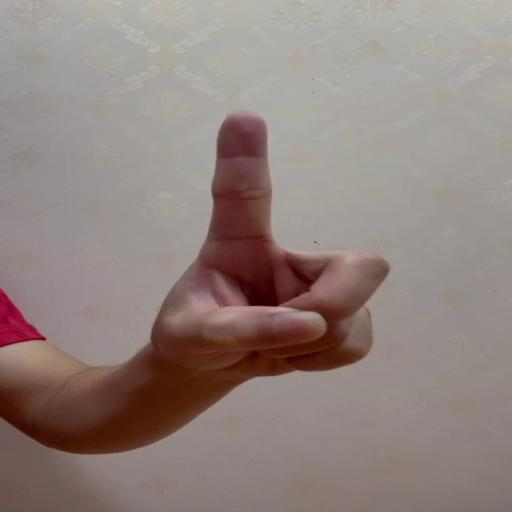point: (188, 110, 392, 379)
